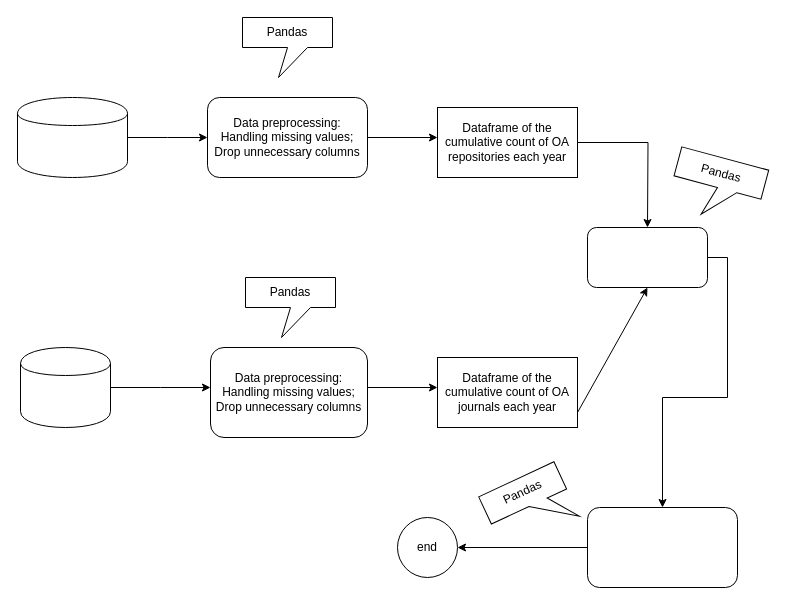
Some shapes in this 787 by 605 pixel diagram are drawn without their labels. The centre of each missing label's shape, as x and y in pixels:
Directory of Open Access Journals: (x=65, y=387)
Directory of Open Access Repositories: (x=72, y=137)
Merge datasets: (x=647, y=257)
Visualize the growth trend of OA repositories & journals over the years: (x=662, y=547)
